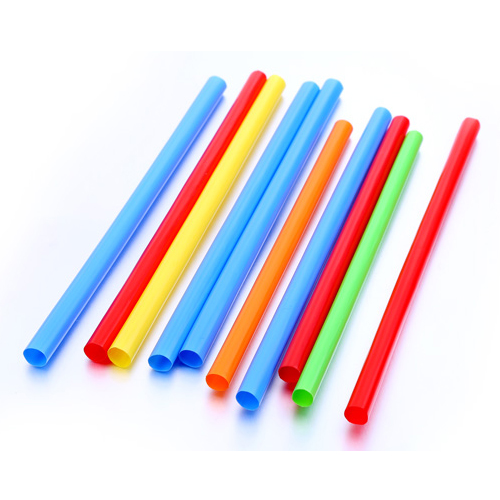Drinking Straw: (343, 115, 483, 428)
